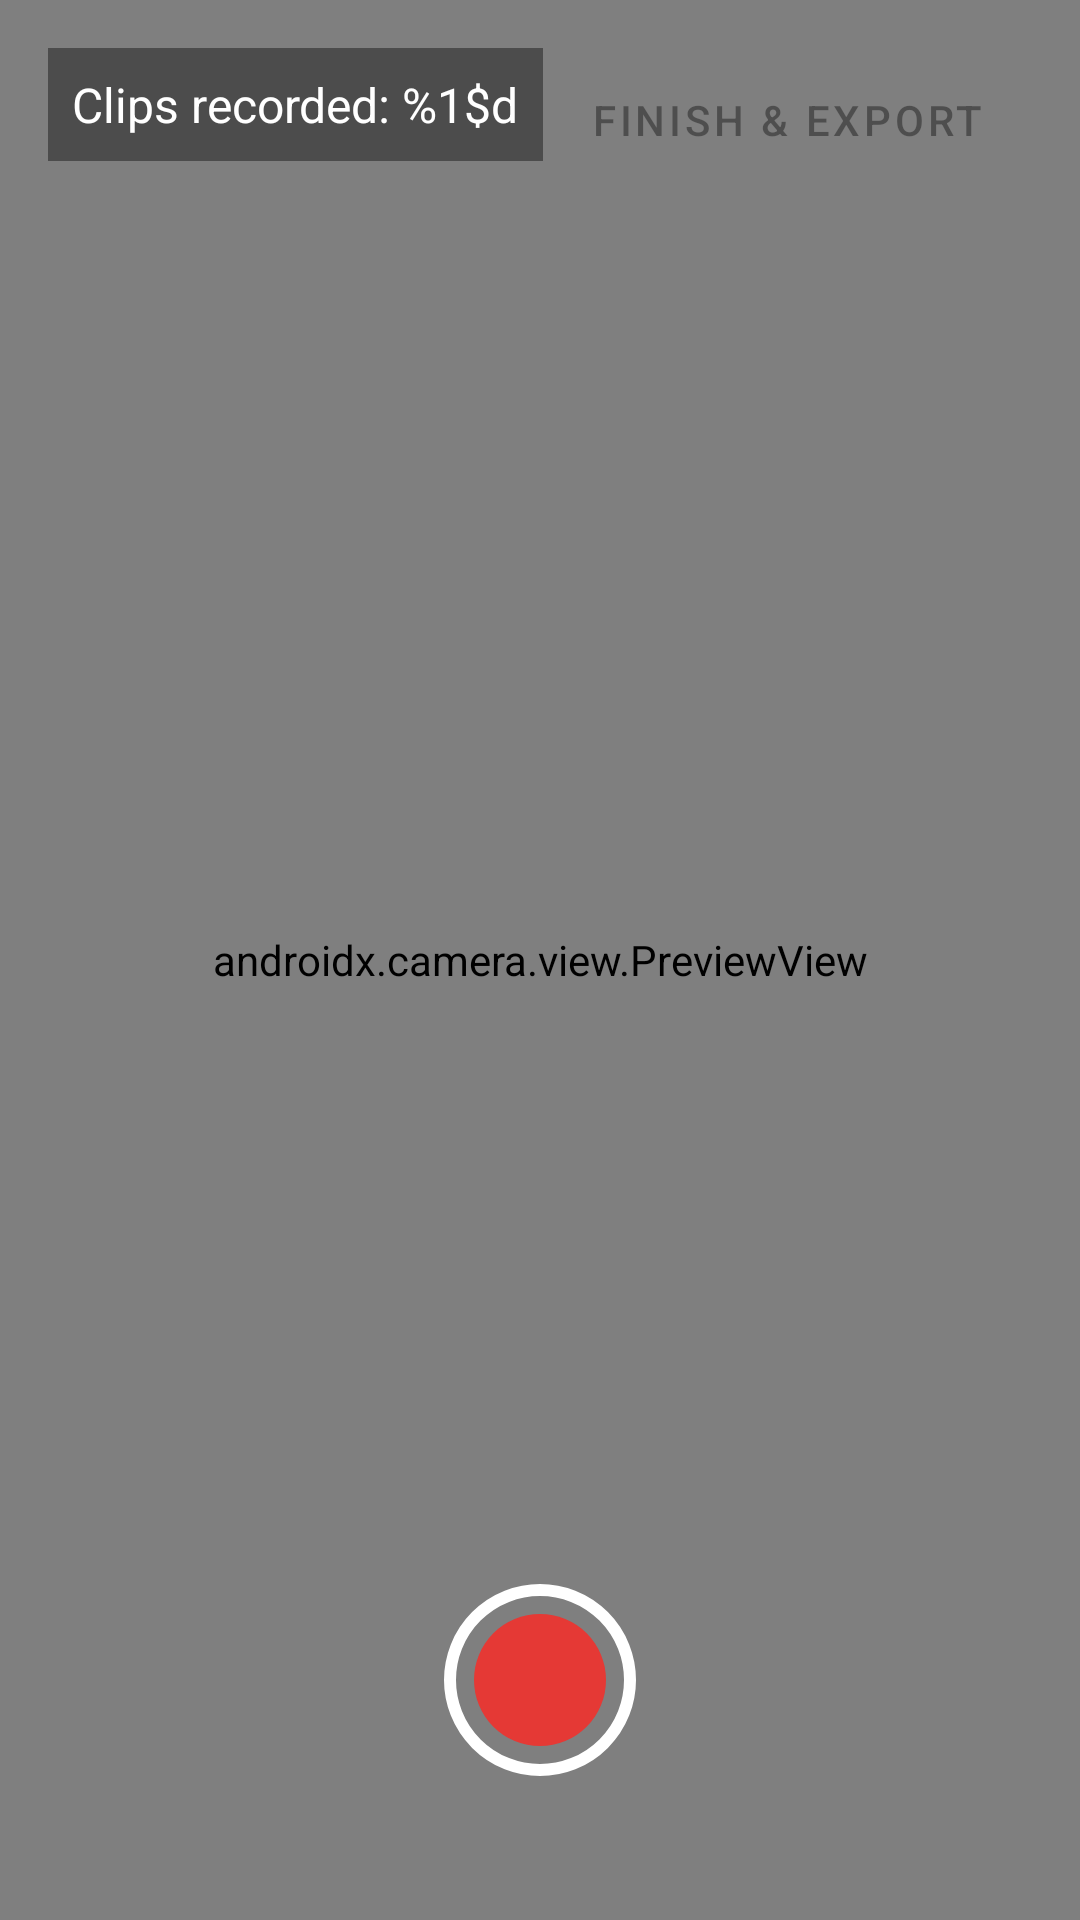

Icons on this 1080x1920 Android screen, each with the point to tap as (x,y):
Tap to record a clip: (540,1680)
